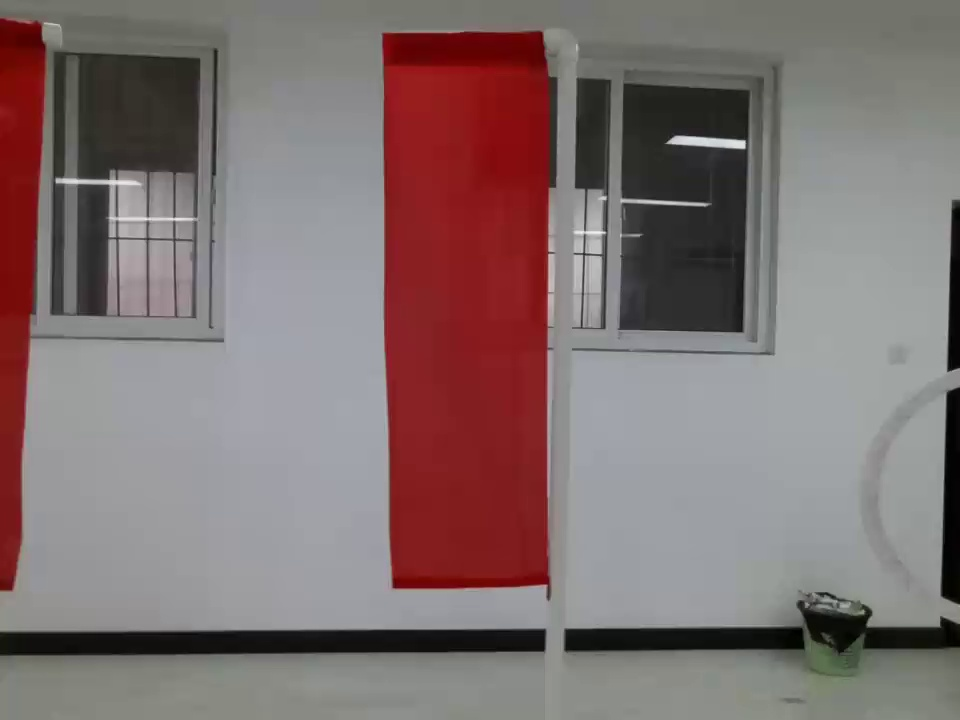qi: (375, 29, 572, 632), (1, 6, 58, 603)
quan: (856, 354, 960, 630)
